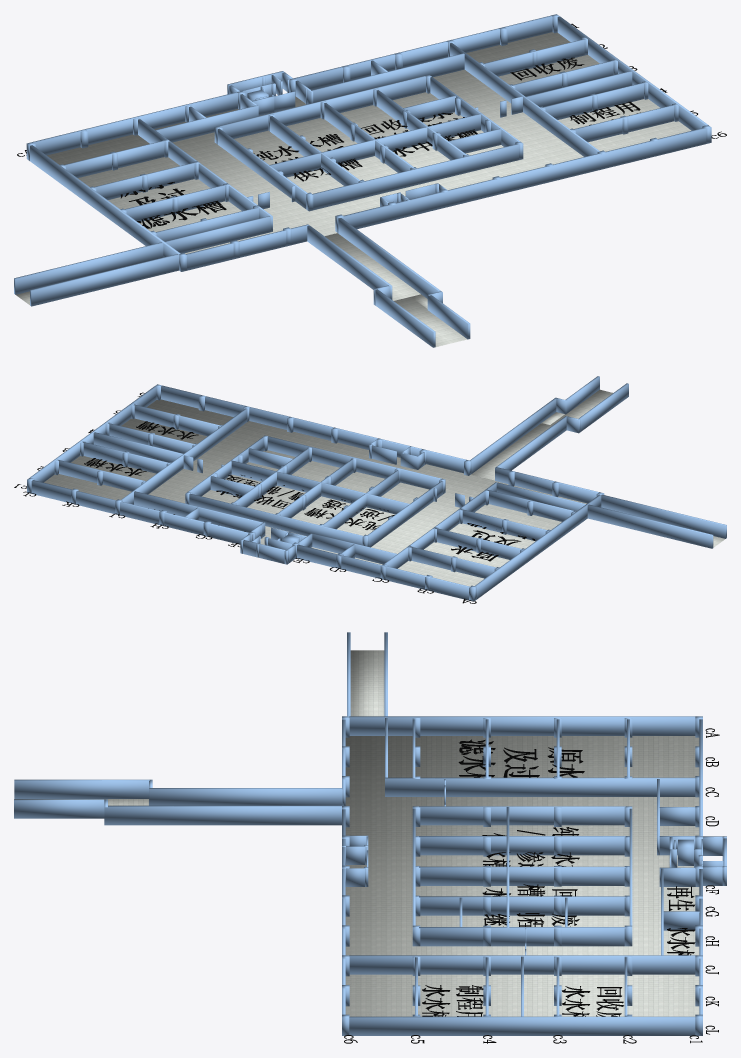
The model's file is cup_-1f_mini.gltf.
3 renders of one model, top to bottom at view 1: azimuth 30°, elevation 25°; view 2: azimuth 150°, elevation 25°; view 3: azimuth 270°, elevation 25°, orthographic. The views are drawn at different scales.
Visible parts, largest first — view 1: cup_dimian_b1f_4, cup_qiang_b1f_120, cup_qiang_b1f_128, cup_qiang_b1f_108, cup_qiang_b1f_129, cup_qiang_b1f_107, cup_qiang_b1f_101, cup_qiang_b1f_137, cup_qiang_b1f_130, cup_qiang_b1f_138, cup_qiang_b1f_126, cup_qiang_b1f_110 (+30 smaller); view 2: cup_dimian_b1f_4, cup_qiang_b1f_120, cup_qiang_b1f_128, cup_qiang_b1f_129, cup_qiang_b1f_101, cup_qiang_b1f_108, cup_qiang_b1f_107, cup_qiang_b1f_130, cup_qiang_b1f_138, cup_qiang_b1f_137, cup_qiang_b1f_126, cup_qiang_b1f_110 (+31 smaller); view 3: cup_dimian_b1f_4, cup_qiang_b1f_127, cup_qiang_b1f_126, cup_qiang_b1f_130, cup_qiang_b1f, cup_qiang_b1f_132, cup_qiang_b1f_102, cup_qiang_b1f_106, cup_qiang_b1f_104, cup_qiang_b1f_105, cup_qiang_b1f_103, cup_qiang_b1f_131 (+13 smaller).
Part boxes in pixels (box(x1,y1,x2,y2)): cup_dimian_b1f_4: box(47, 32, 691, 253); cup_qiang_b1f_120: box(341, 128, 706, 229); cup_qiang_b1f_128: box(295, 15, 552, 90); cup_qiang_b1f_108: box(312, 144, 518, 210); cup_qiang_b1f_129: box(32, 92, 237, 155); cup_qiang_b1f_107: box(219, 76, 425, 138); cup_qiang_b1f_101: box(269, 113, 481, 177); cup_qiang_b1f_137: box(30, 254, 179, 306); cup_qiang_b1f_130: box(30, 145, 180, 257); cup_qiang_b1f_138: box(14, 242, 163, 294); cup_qiang_b1f_126: box(450, 43, 599, 156); cup_qiang_b1f_110: box(311, 53, 464, 102); cup_dimian_b1f_4: box(44, 399, 586, 586); cup_qiang_b1f_120: box(161, 385, 466, 473); cup_qiang_b1f_128: box(31, 480, 248, 544); cup_qiang_b1f_129: box(297, 544, 470, 600); cup_qiang_b1f_101: box(231, 460, 409, 514); cup_qiang_b1f_108: box(267, 436, 441, 489); cup_qiang_b1f_107: box(189, 493, 363, 545); cup_qiang_b1f_130: box(474, 494, 601, 599); cup_qiang_b1f_138: box(587, 504, 713, 548); cup_qiang_b1f_137: box(601, 494, 726, 538); cup_qiang_b1f_126: box(121, 408, 247, 504); cup_qiang_b1f_110: box(134, 491, 262, 532); cup_dimian_b1f_4: box(345, 736, 699, 1016); cup_qiang_b1f_127: box(349, 1016, 695, 1035); cup_qiang_b1f_126: box(349, 955, 695, 974); cup_qiang_b1f_130: box(349, 716, 695, 735); cup_qiang_b1f: box(385, 777, 695, 796); cup_qiang_b1f_132: box(104, 805, 342, 825); cup_qiang_b1f_102: box(419, 927, 625, 946); cup_qiang_b1f_106: box(419, 806, 625, 825); cup_qiang_b1f_104: box(419, 866, 625, 885); cup_qiang_b1f_105: box(419, 836, 625, 855); cup_qiang_b1f_103: box(419, 896, 625, 915); cup_qiang_b1f_131: box(149, 788, 342, 805).
Size of the model in its own units: 249 by 5.37 by 190.
Materials: 7 (5 with a texture image).
